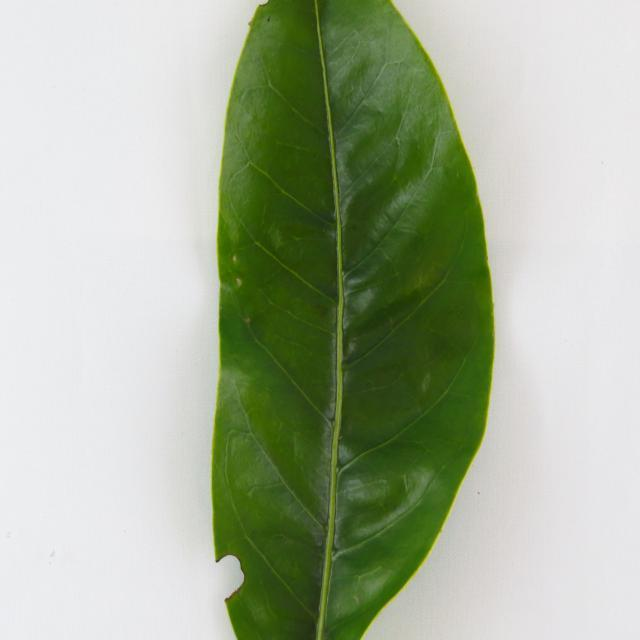DeficienciaNutricional-Boro: (212, 2, 494, 638)
